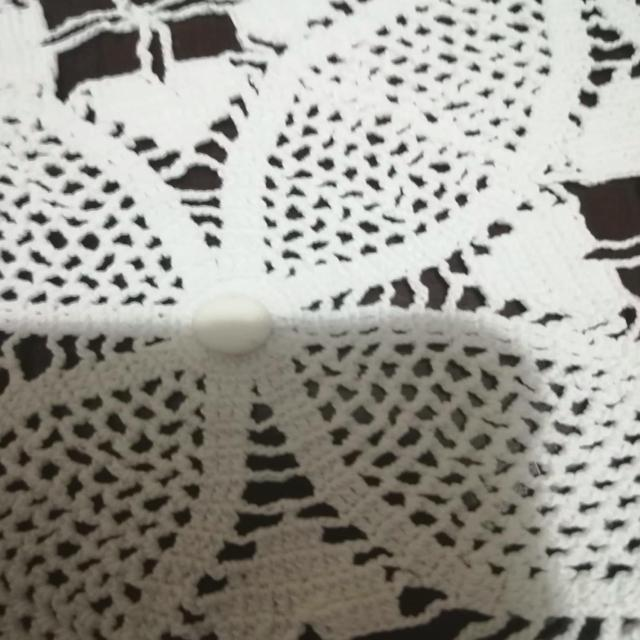pill: (184, 286, 279, 361)
